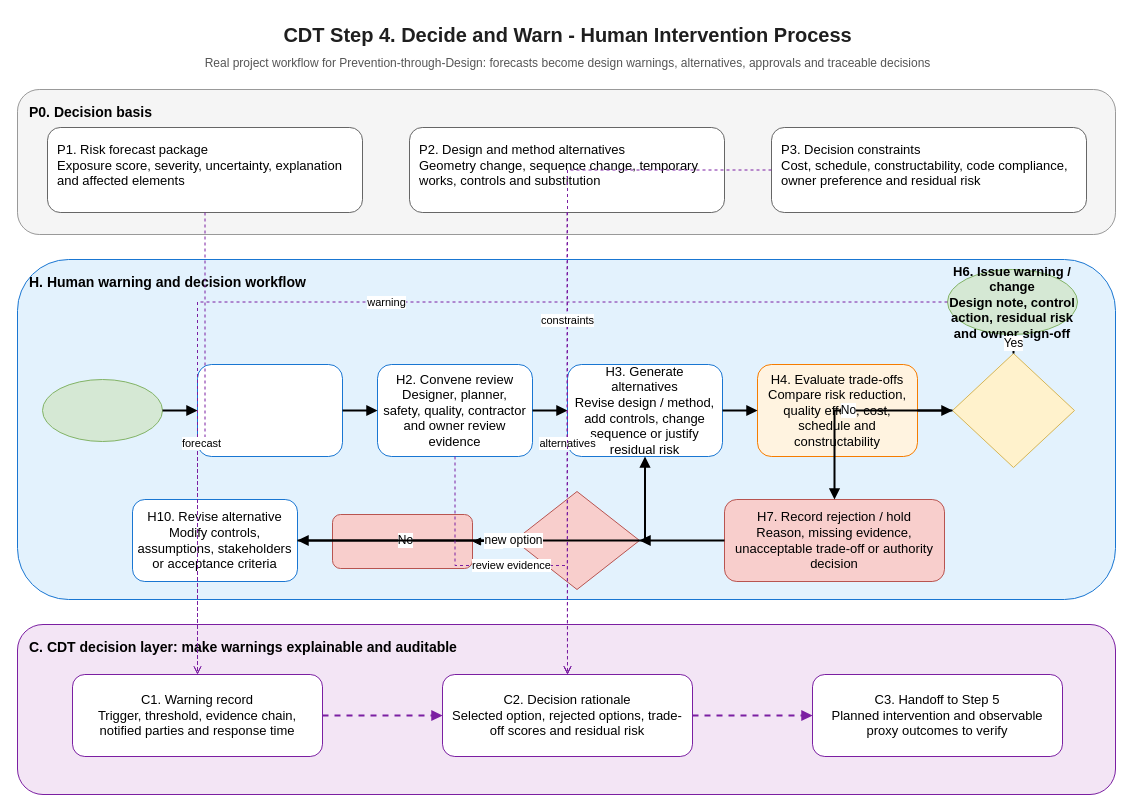
This 1133x812 diagram has some shape labels left out. The shapes that lost their labels are listed below. From the top down, each one's centre as x and y in pixels, then its label:
point (102, 410): H0. Start High-risk forecast received
point (269, 410): H1. Triage warning Classify urgency, owner, affected package and approval path
point (1013, 410): H5. Approve intervention?
point (402, 541): H9. Return to Step 3 Forecast revised option
point (577, 540): H8. Need prediction rerun?
